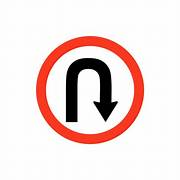back: (35, 35, 146, 145)
